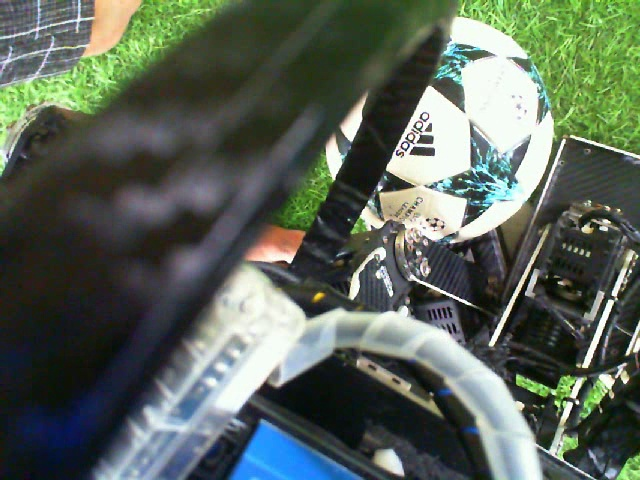ball: (369, 15, 556, 248)
